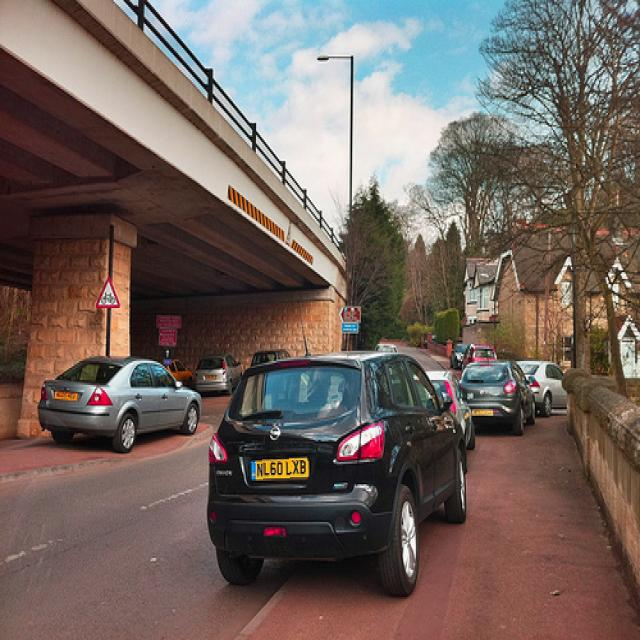licence: (248, 453, 311, 481)
